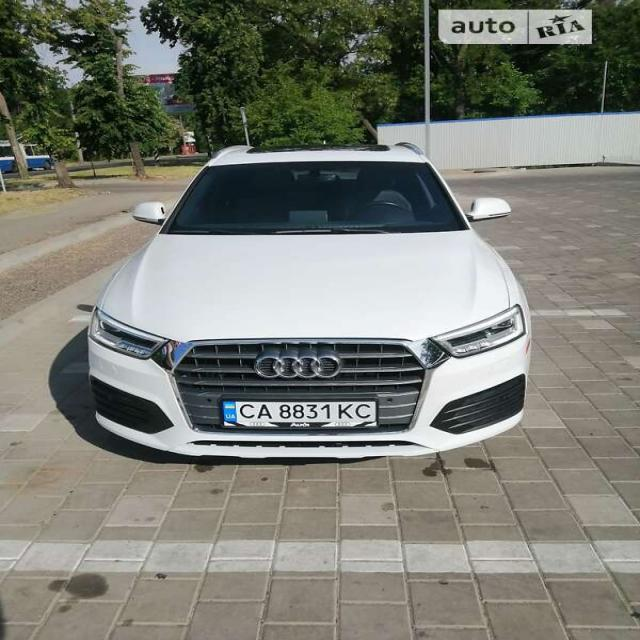plate: (210, 396, 389, 432)
